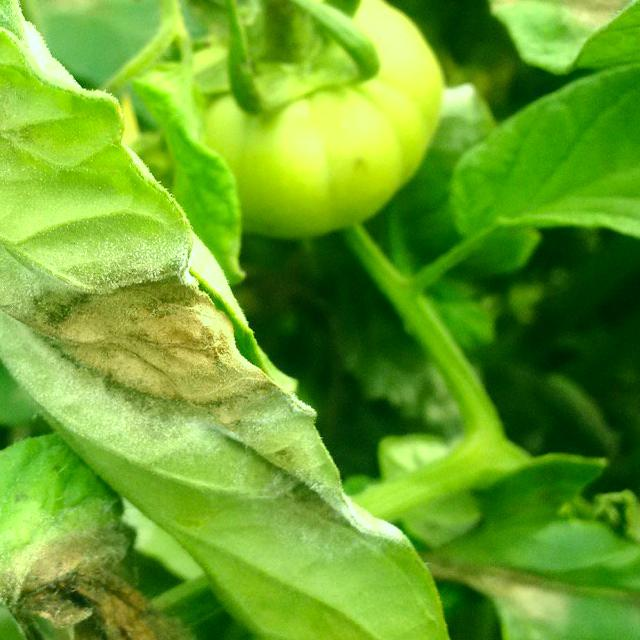Tomato leaf late blight: (0, 0, 484, 640), (0, 432, 250, 640)
